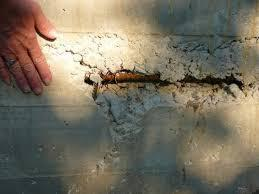Exposed reinforcement: (175, 74, 243, 86), (99, 72, 162, 82), (91, 81, 98, 100)
Spalling: (39, 33, 259, 145)
